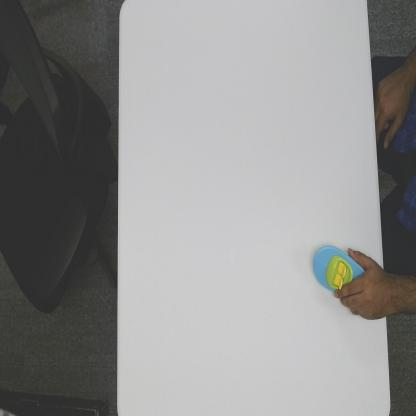Boat: (312, 242, 365, 296)
Hand: (334, 247, 386, 322)
